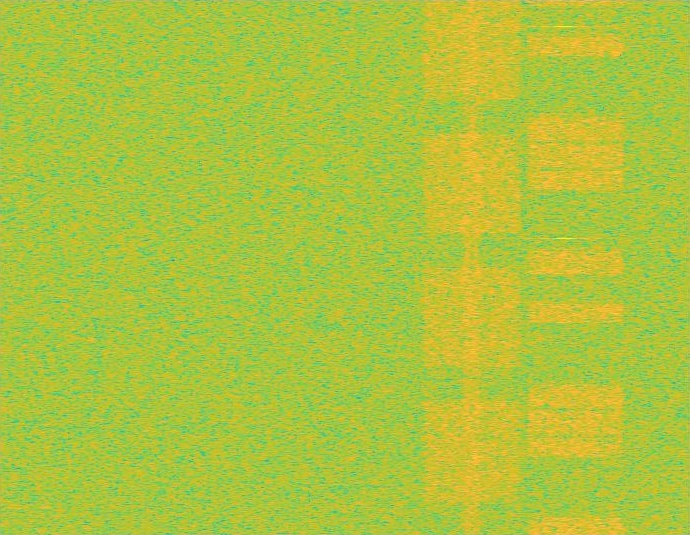5G: (420, 0, 524, 534)
DSSS: (461, 0, 484, 534)
LTE: (524, 0, 627, 534)
Radar: (558, 0, 572, 534)
